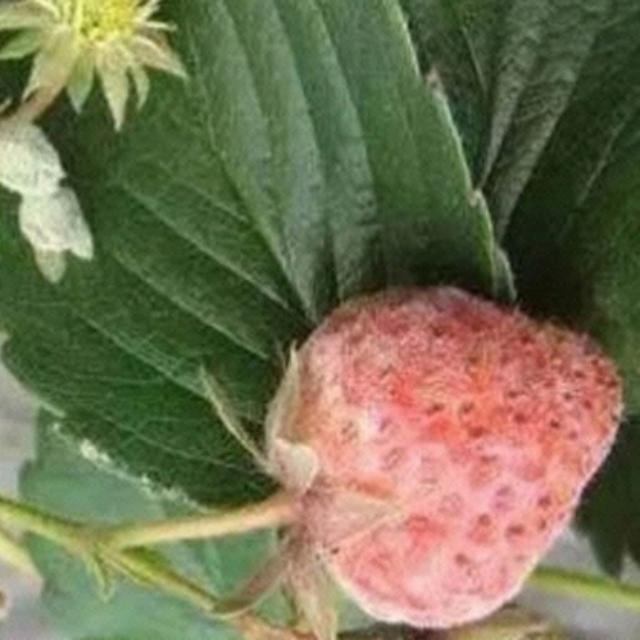Powdery Mildew Fruit: (243, 283, 625, 639)
